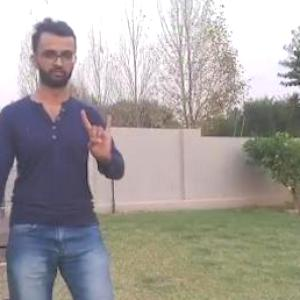takeoff-hand: (77, 101, 121, 164)
